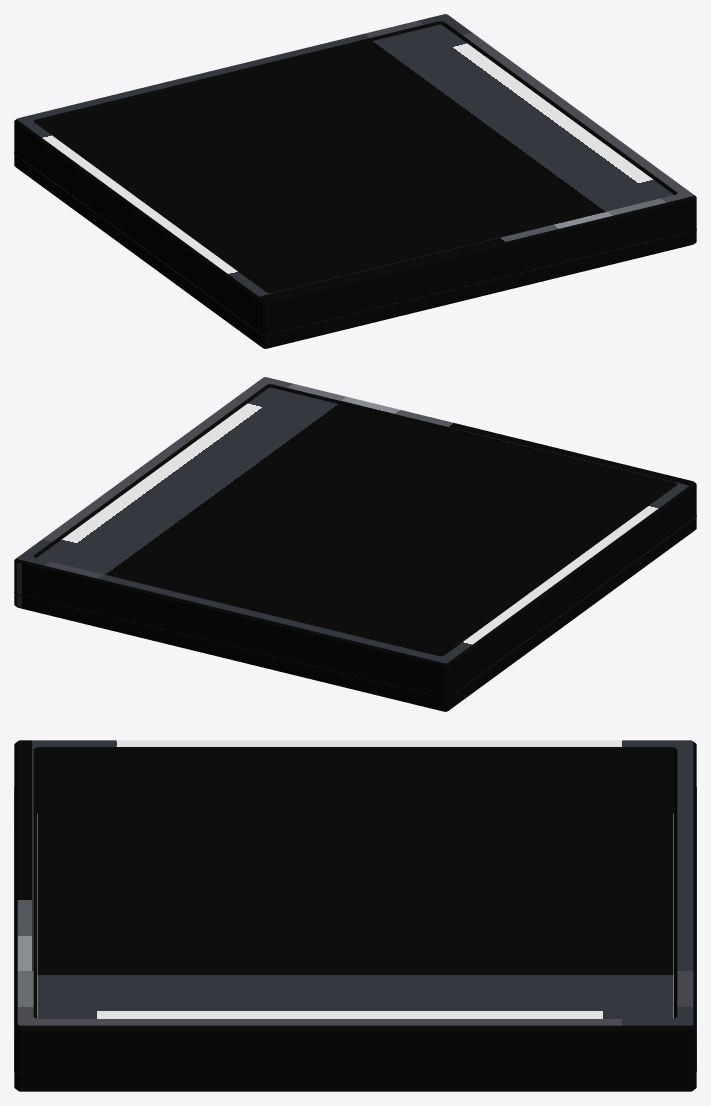
Rendered from lit.obj.
The picture shows the model from 3 angles, top to bottom: view 1: azimuth 30°, elevation 25°; view 2: azimuth 150°, elevation 25°; view 3: azimuth 270°, elevation 25°; orthographic projection. The views are drawn at different scales.
Visible parts, largest first — view 1: lens_lit, frame, seam; view 2: lens_lit, frame, seam; view 3: lens_lit, frame, seam.
Boxes of the visible parts, left/top/right/bottom form: lens_lit: left=36, top=24, right=673, bottom=293; frame: left=14, top=14, right=696, bottom=348; seam: left=14, top=152, right=696, bottom=336; lens_lit: left=37, top=387, right=674, bottom=656; frame: left=14, top=377, right=696, bottom=711; seam: left=14, top=515, right=696, bottom=699; lens_lit: left=37, top=751, right=673, bottom=1018; frame: left=14, top=740, right=696, bottom=1091; seam: left=14, top=787, right=696, bottom=1074.
Size of the model in its own units: 0.6005 by 0.064 by 0.6005.
